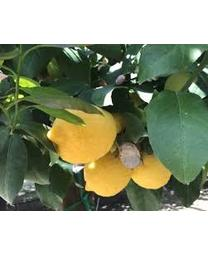lemon: (49, 106, 125, 162), (83, 153, 134, 196)
